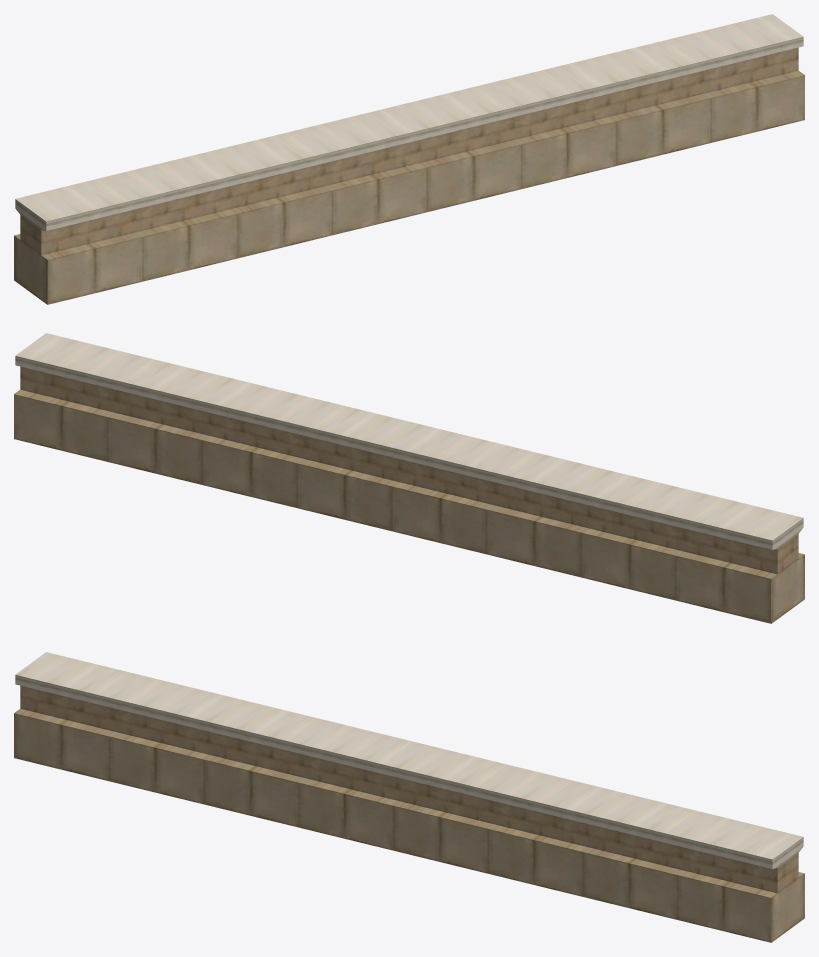
Rendered from thm_nboo_imprv_pristine_wall_sml_s01_l1.fbx.
3 renders of one model, top to bottom at view 1: azimuth 30°, elevation 25°; view 2: azimuth 150°, elevation 25°; view 3: azimuth 330°, elevation 25°, orthographic.
Visible parts, largest first — view 1: mesh_node; view 2: mesh_node; view 3: mesh_node.
Part boxes in pixels (x1,y1,x2,y2): mesh_node: (14, 14, 804, 304); mesh_node: (14, 333, 804, 623); mesh_node: (14, 652, 804, 942).
Bounding box in the file's own units: 18.96 × 1.97 × 1.45.
1 material, 1 textured.
